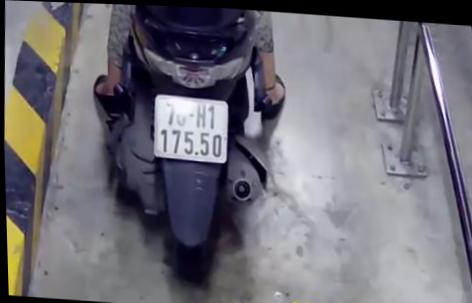LP: (150, 91, 230, 165)
